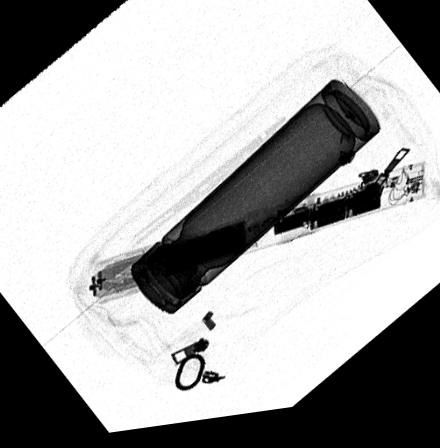Baton: (87, 173, 426, 306)
